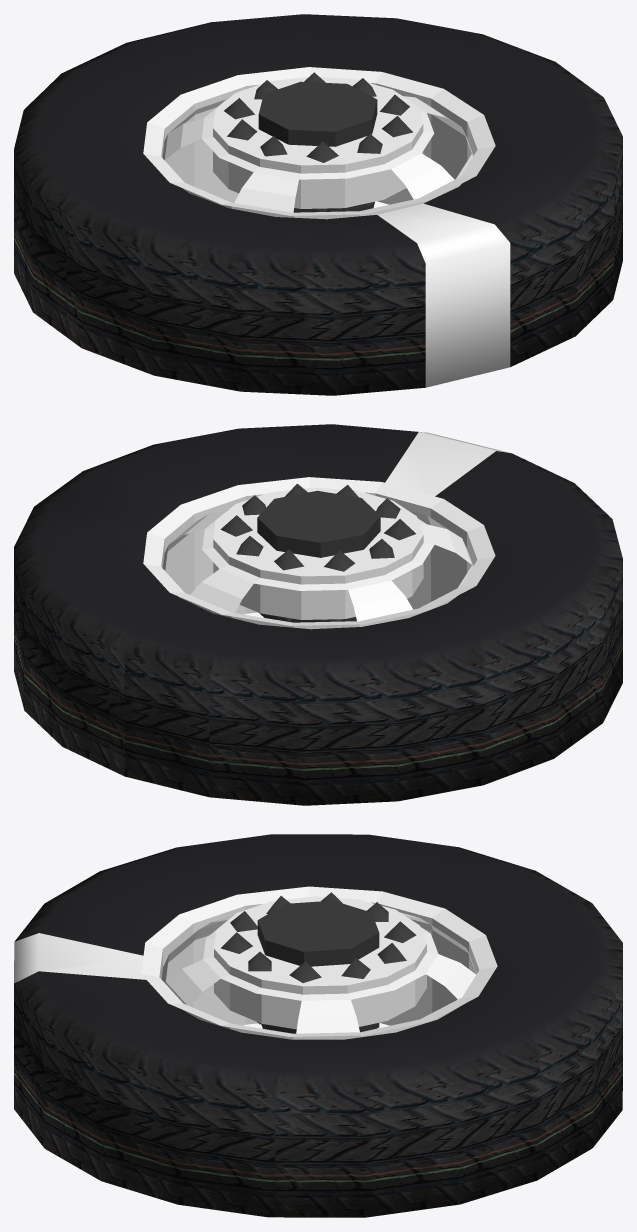
The model's file is tire_with_stripe.obj.
3 renders of one model, top to bottom at view 1: azimuth 30°, elevation 25°; view 2: azimuth 150°, elevation 25°; view 3: azimuth 270°, elevation 25°, orthographic.
Parts seen in each view (by area): view 1: Object02, 1_-_Default, 2_-_Default, Object01; view 2: Object02, 1_-_Default, 2_-_Default, Object01; view 3: Object02, 1_-_Default, 2_-_Default, Object01.
Part boxes in pixels (x1,y1,x2,y2): Object02: (14, 14, 622, 395); 1_-_Default: (143, 67, 495, 219); 2_-_Default: (258, 81, 377, 212); Object01: (224, 72, 412, 211); Object02: (14, 424, 622, 805); 1_-_Default: (143, 477, 495, 629); 2_-_Default: (257, 490, 380, 622); Object01: (220, 483, 415, 621); Object02: (14, 834, 622, 1217); 1_-_Default: (141, 886, 497, 1039); 2_-_Default: (257, 900, 379, 1033); Object01: (221, 892, 416, 1027).
Bounding box in the file's own units: 1.04 × 0.326 × 1.04.
Materials: 5 (3 with a texture image).
